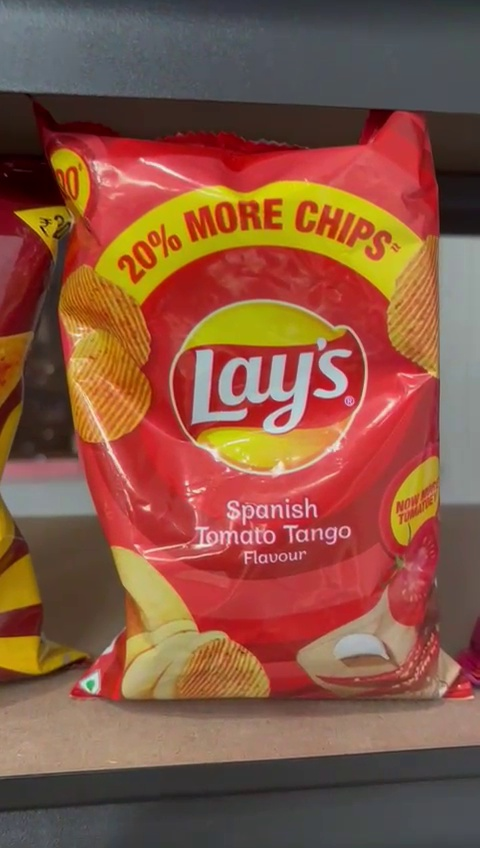Lays: (49, 134, 450, 699)
